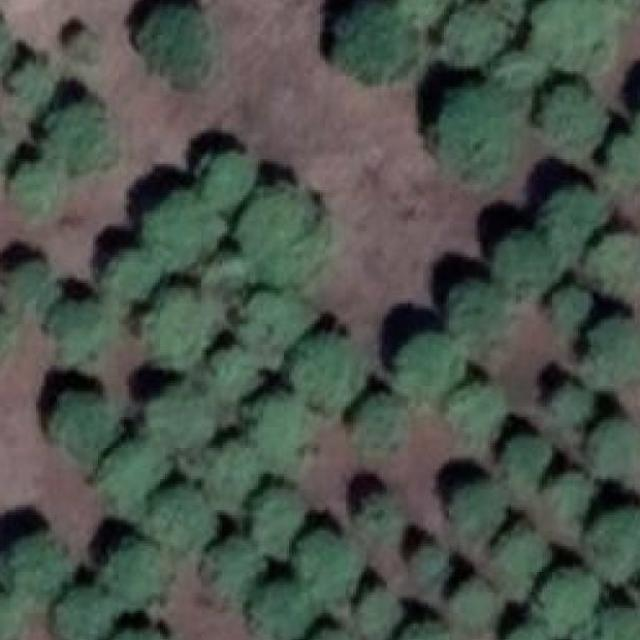Tree: (434, 87, 516, 195), (246, 190, 331, 288), (333, 4, 411, 87), (289, 329, 361, 415), (142, 198, 218, 274), (534, 0, 613, 68), (144, 4, 210, 82), (296, 530, 366, 603), (542, 81, 607, 157), (93, 436, 168, 500), (8, 534, 84, 596), (153, 482, 220, 549), (438, 4, 504, 71), (44, 106, 112, 170), (202, 539, 266, 606), (583, 505, 640, 580), (398, 334, 462, 400), (148, 288, 202, 365), (108, 539, 174, 601), (50, 386, 112, 451), (235, 290, 302, 350), (160, 384, 220, 451), (496, 231, 558, 293), (256, 402, 313, 468), (351, 394, 406, 462), (585, 314, 640, 381), (547, 187, 607, 247), (96, 257, 153, 319), (201, 150, 258, 210), (207, 440, 261, 502), (586, 231, 640, 293), (258, 484, 305, 554), (452, 482, 504, 544), (54, 587, 114, 640), (447, 386, 504, 438), (452, 286, 509, 337), (540, 572, 597, 623), (50, 298, 96, 361), (247, 592, 307, 640), (591, 422, 640, 479), (496, 536, 547, 587), (504, 51, 548, 108), (555, 381, 602, 432), (13, 169, 60, 219), (547, 471, 592, 520), (217, 350, 258, 399), (454, 577, 494, 627), (8, 260, 50, 307), (359, 592, 401, 639), (509, 443, 553, 487), (10, 64, 52, 108), (607, 144, 640, 198), (356, 494, 398, 536), (405, 546, 444, 591), (593, 603, 640, 640), (552, 286, 592, 327), (385, 0, 450, 25), (0, 589, 31, 639), (394, 620, 460, 640), (106, 623, 179, 640), (0, 306, 18, 360), (70, 33, 101, 64), (506, 620, 554, 640), (299, 628, 359, 640), (604, 0, 640, 20)
